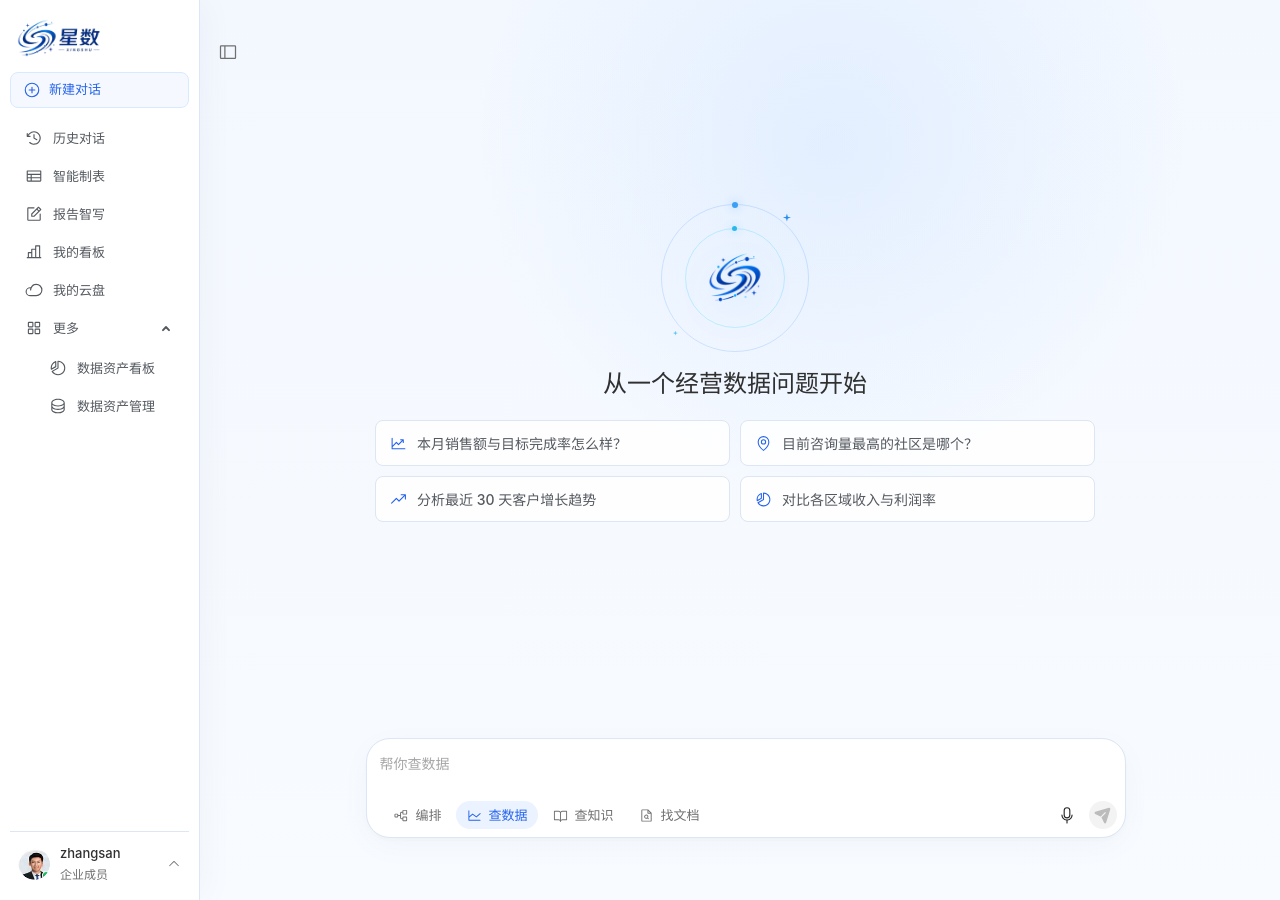
Scenario: AppRoutes › submits from the workspace with the selected DataHub model
Type "查询最新销售制度" into the text box named "命令输入" at (746,770), box [367,739,1125,801]
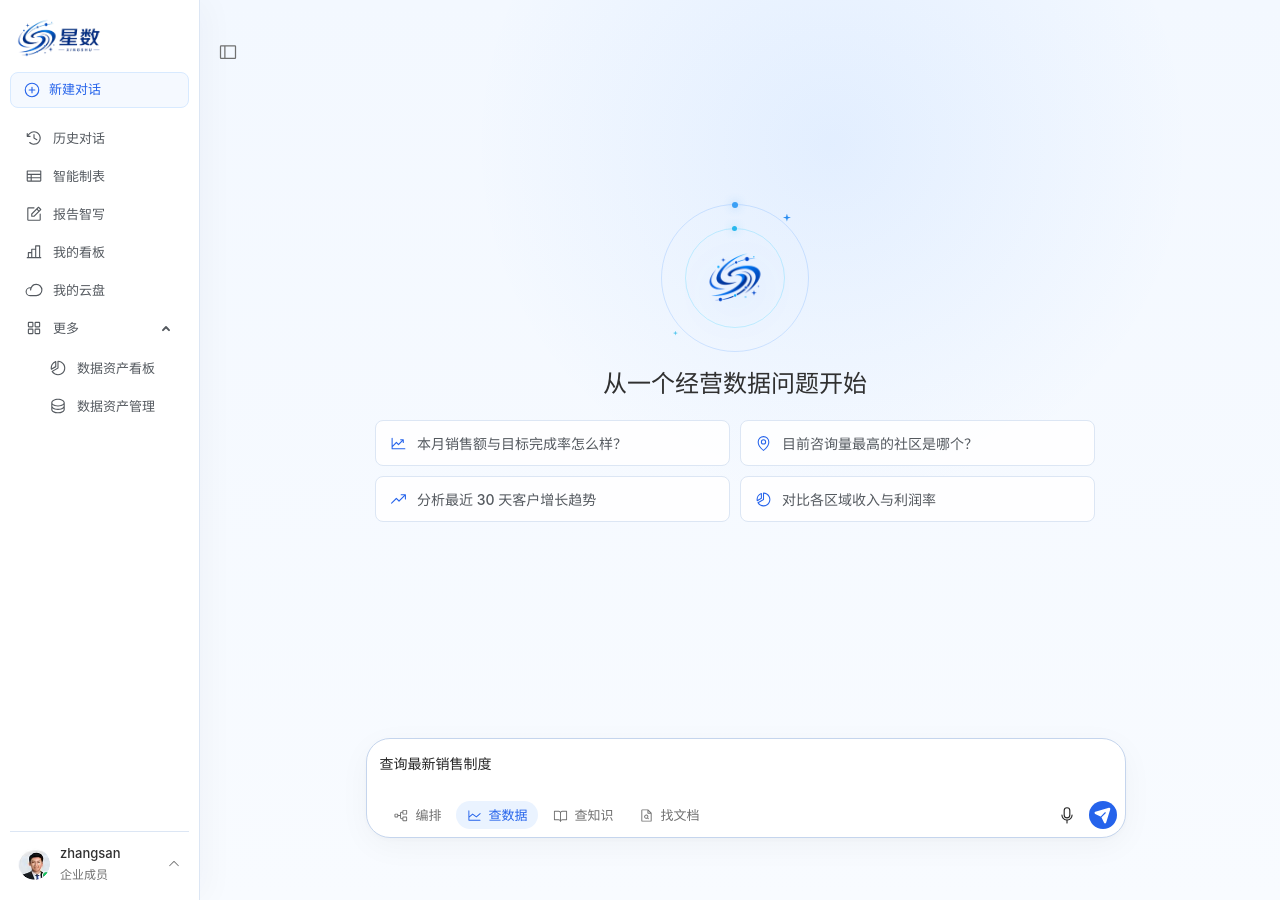
Click the button with aria-label "切换到问知模型" at (584,815), box [542,801,624,829]
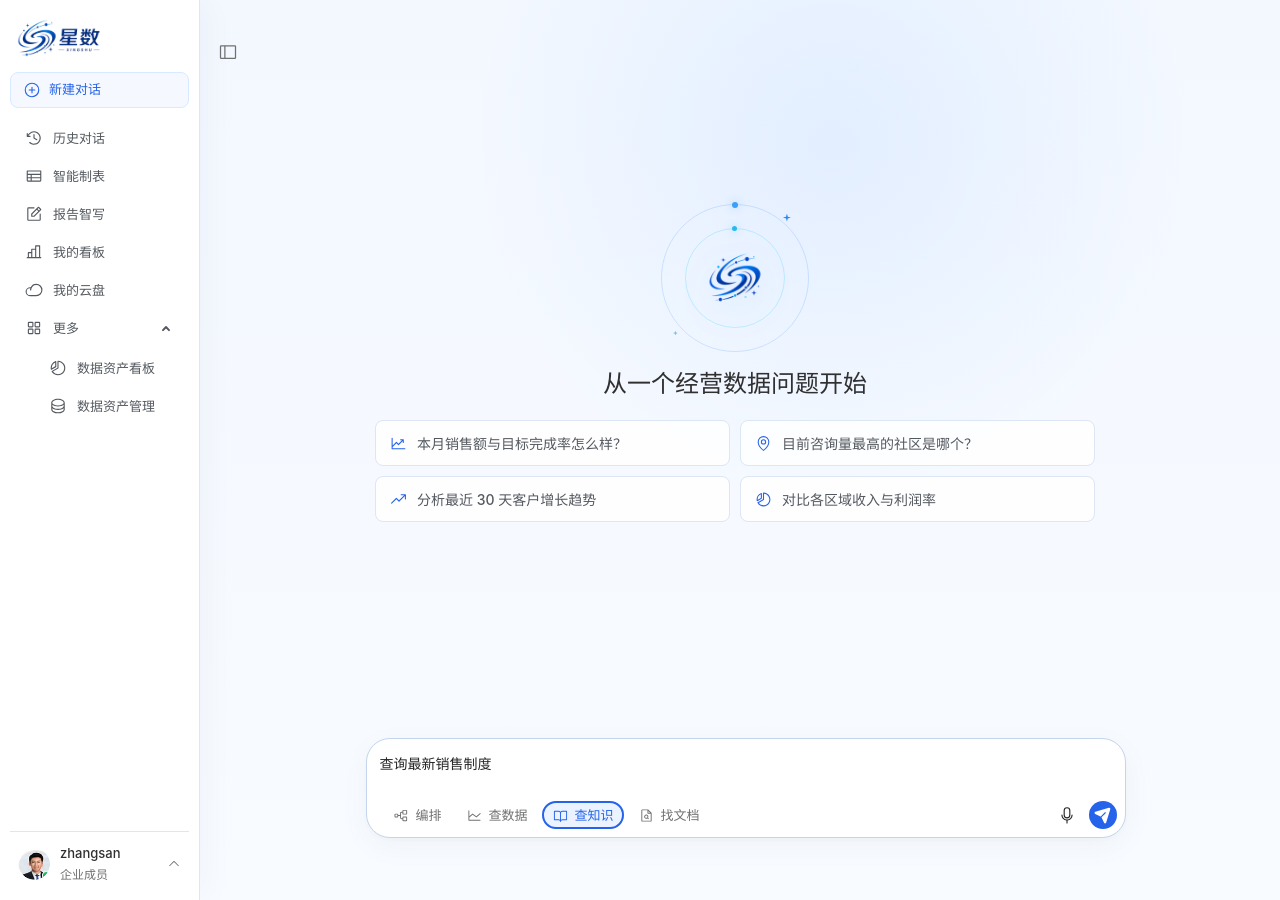
Click the button named "发送" at (1103,815), box [1089,801,1117,829]
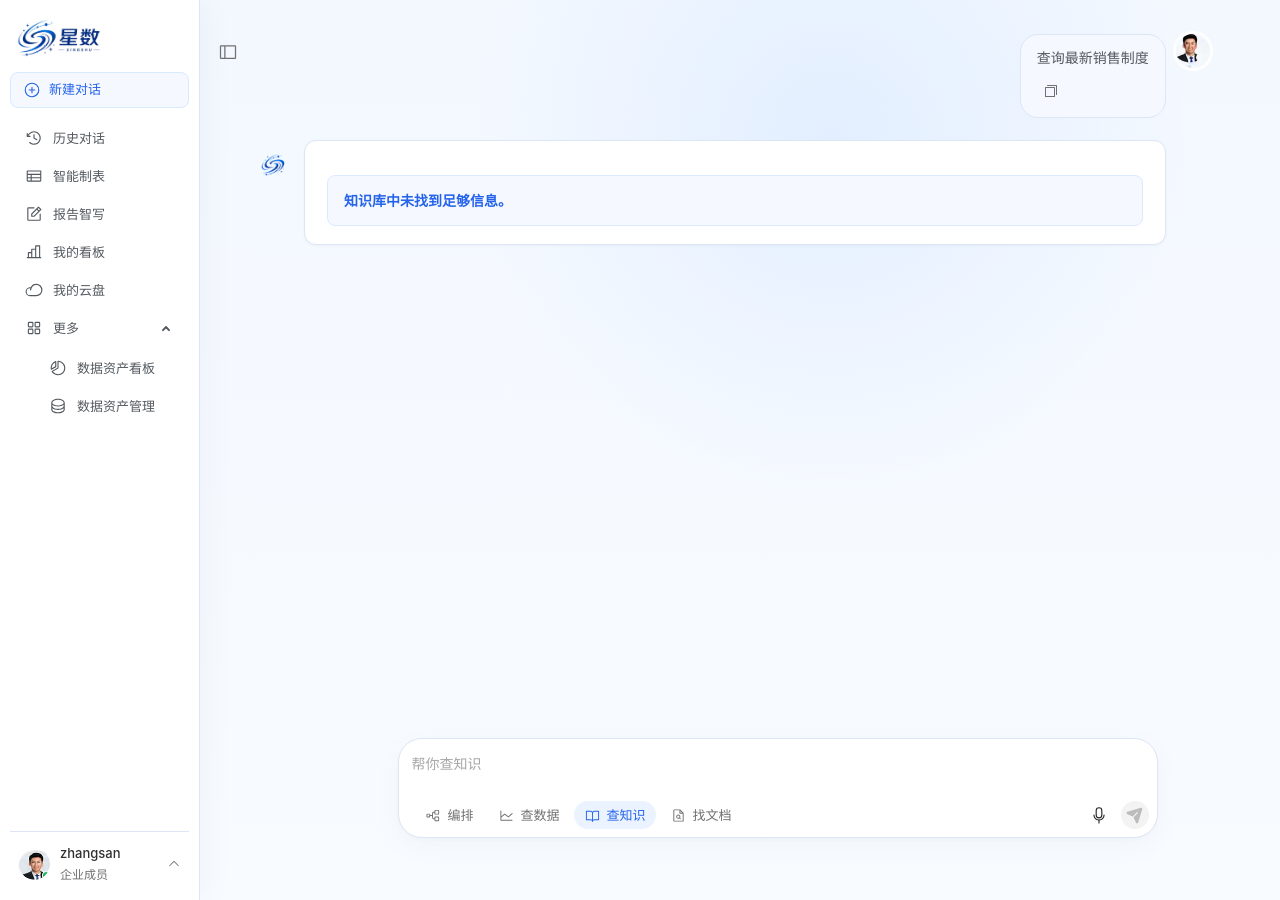
Now the text "查询最新销售制度" is shown, box [1037,47,1149,69]
